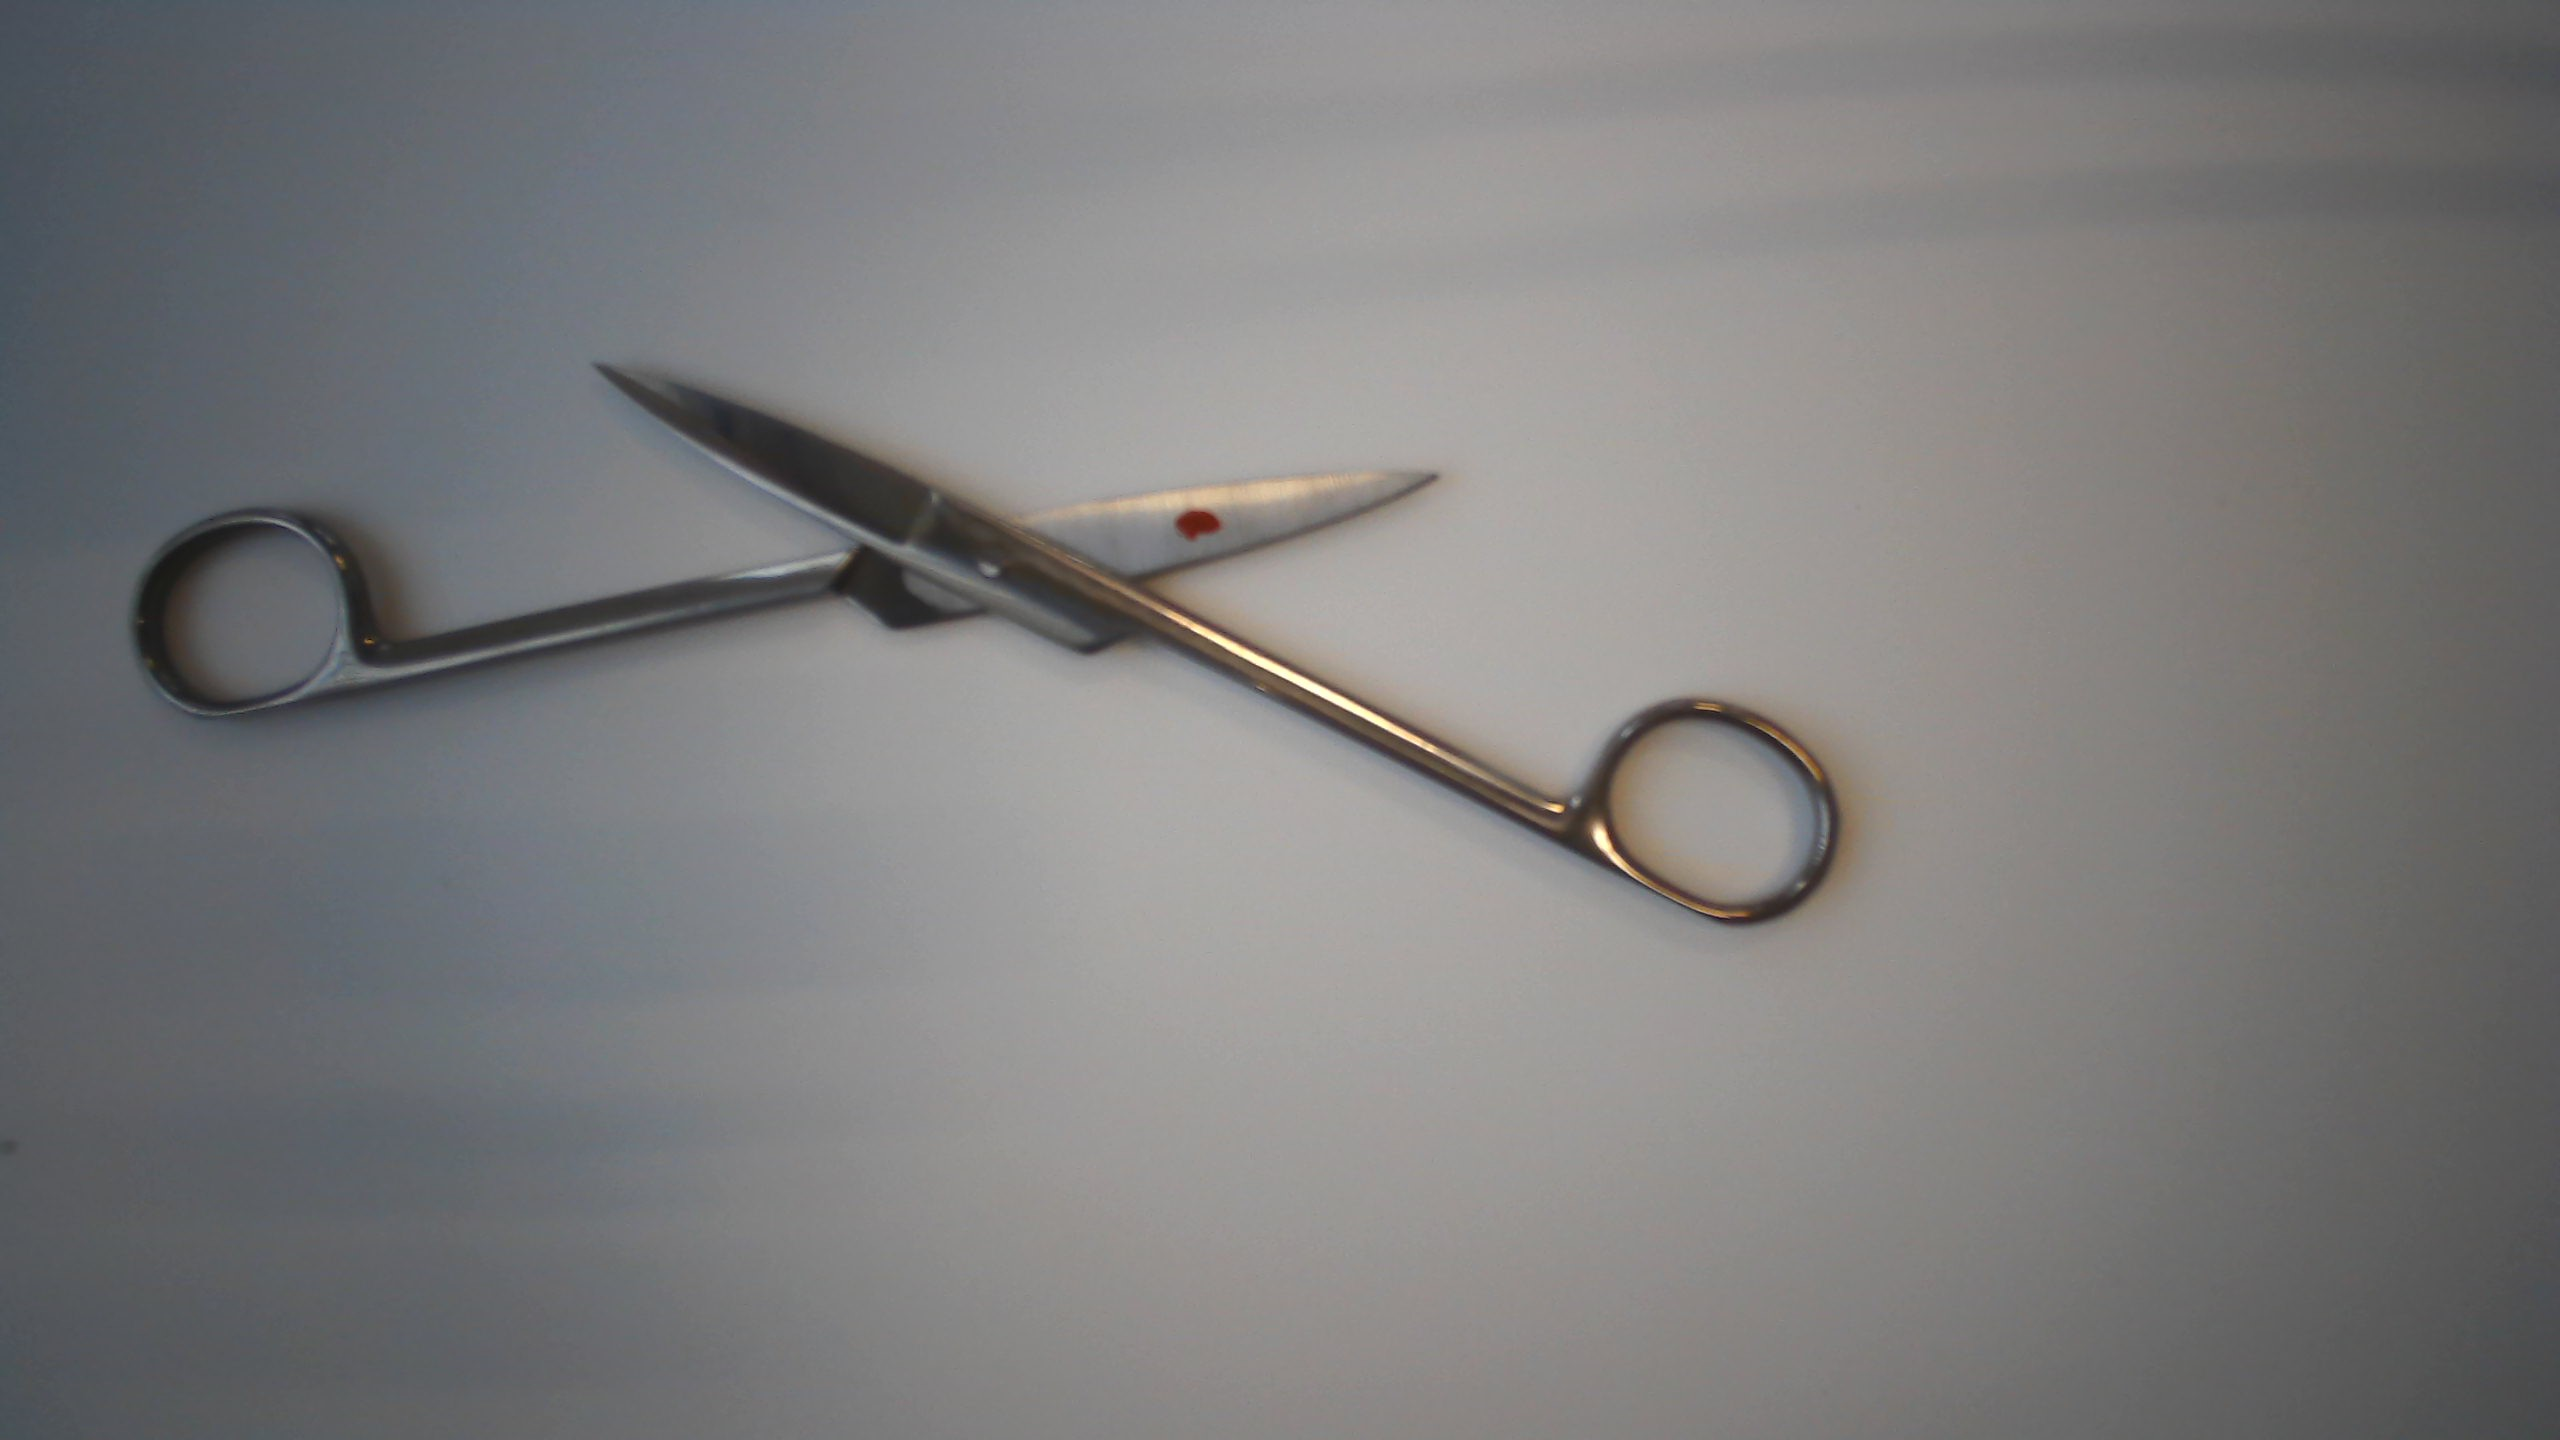Stain: (1173, 503, 1233, 547)
